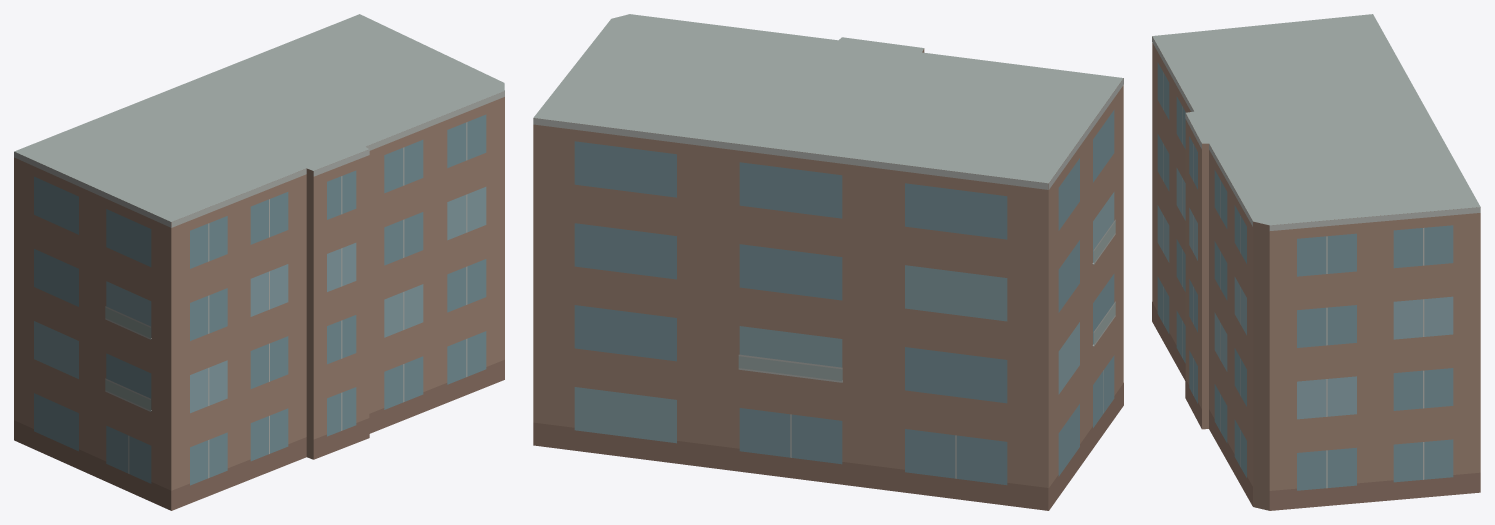
Rendered from survey-upis-32821779.glb.
3 renders of one model, left to right at view 1: azimuth 30°, elevation 25°; view 2: azimuth 150°, elevation 25°; view 3: azimuth 270°, elevation 25°, orthographic. The views are drawn at different scales.
Visible parts, largest first — view 1: survey-upis-32821779.tmp; view 2: survey-upis-32821779.tmp; view 3: survey-upis-32821779.tmp.
Part boxes in pixels (x1=…): survey-upis-32821779.tmp: x1=14, y1=14, x2=504, y2=510; survey-upis-32821779.tmp: x1=533, y1=14, x2=1123, y2=510; survey-upis-32821779.tmp: x1=1152, y1=14, x2=1480, y2=510.
Bounding box in the file's own units: 19.14 × 12.05 × 12.58.
